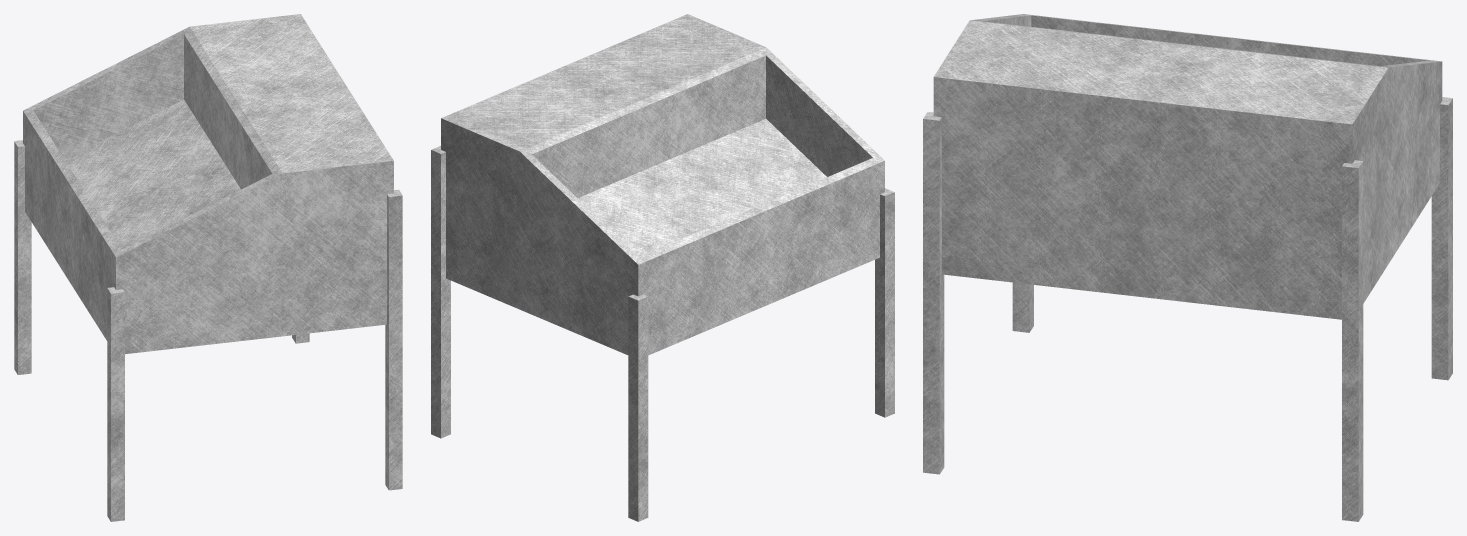
The model's file is washingTable1.fbx.
3 renders of one model, left to right at view 1: azimuth 30°, elevation 25°; view 2: azimuth 150°, elevation 25°; view 3: azimuth 270°, elevation 25°, orthographic. The views are drawn at different scales.
Parts seen in each view (by area): view 1: Washing-Table1; view 2: Washing-Table1; view 3: Washing-Table1.
Part boxes in pixels (x1,y1,x2,y2): Washing-Table1: (14,14,402,521); Washing-Table1: (431,14,894,521); Washing-Table1: (923,14,1452,521).
Size of the model in its own units: 108 by 100 by 122.
Materials: 1 (1 with a texture image).
